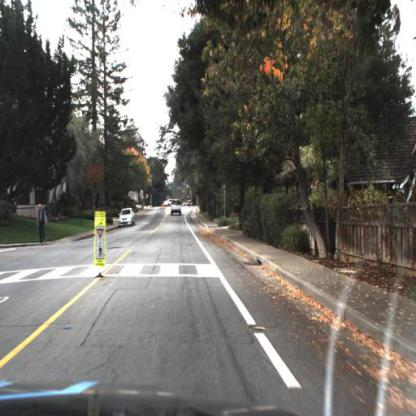car: (117, 206, 136, 231), (172, 197, 184, 219)
pedestrian: (38, 202, 49, 246)
